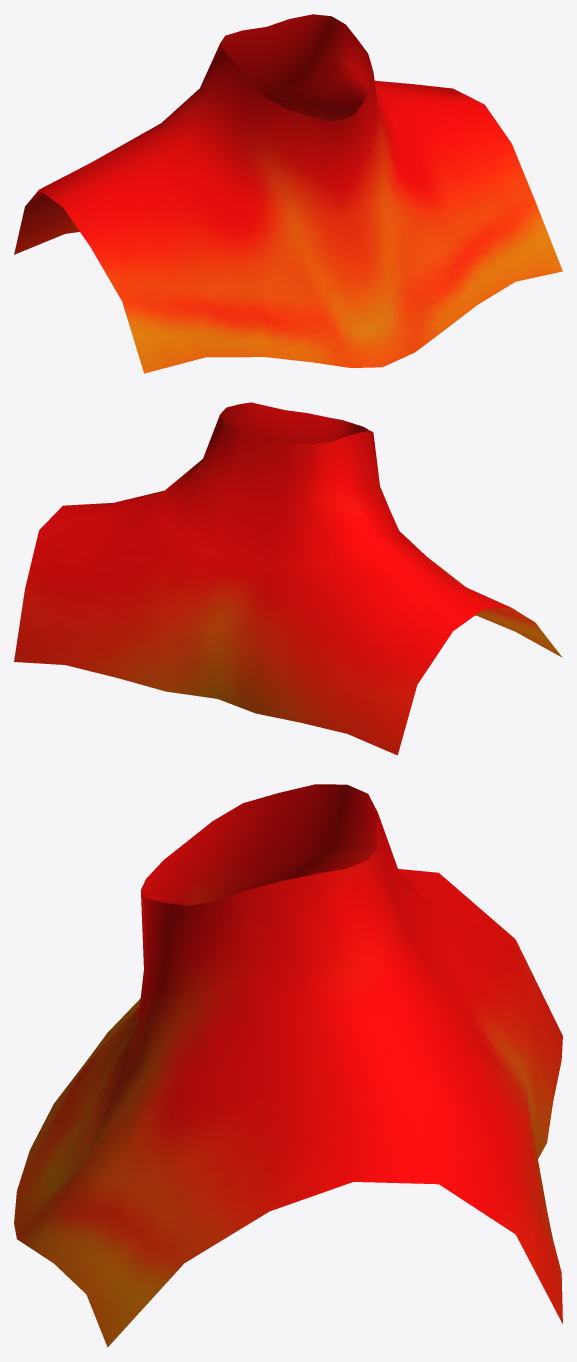
File: neck.obj
3 renders of one model, top to bottom at view 1: azimuth 30°, elevation 25°; view 2: azimuth 150°, elevation 25°; view 3: azimuth 270°, elevation 25°, orthographic. The views are drawn at different scales.
Parts seen in each view (by area): view 1: neck_0; view 2: neck_0; view 3: neck_0.
Boxes of the visible parts, x1,y1,x2,y2 form: neck_0: (14, 14, 562, 373); neck_0: (14, 402, 562, 755); neck_0: (14, 784, 562, 1347).
Size of the model in its own units: 0.1917 by 0.112 by 0.1402.
Materials: 1 (1 with a texture image).
